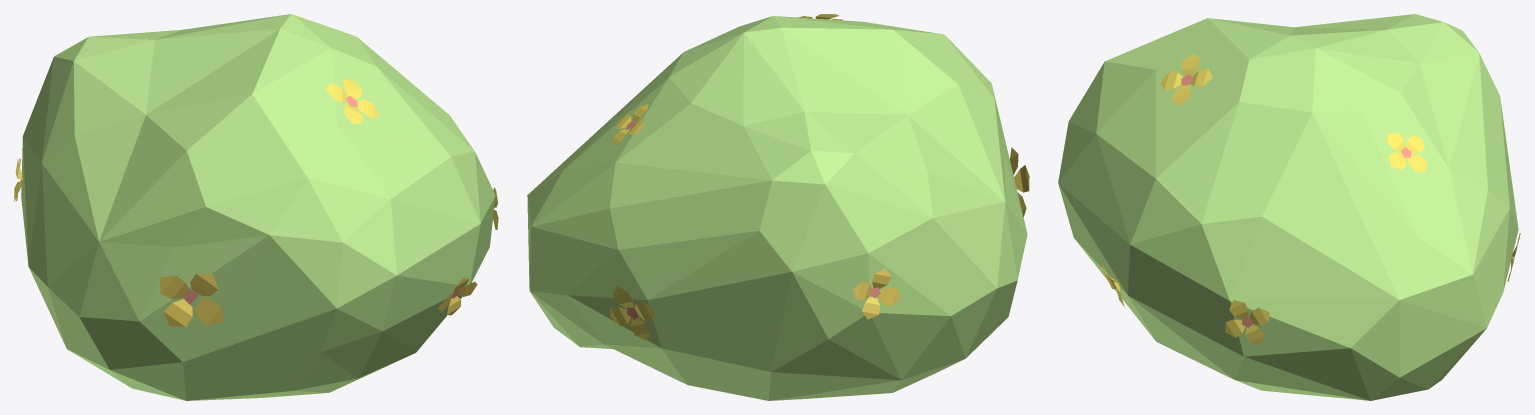
Rendered from FlowerBush_a_l_04.fbx.
3 views of the same model, side by side, from view 1: azimuth 30°, elevation 25°; view 2: azimuth 150°, elevation 25°; view 3: azimuth 270°, elevation 25° (orthographic). The views are drawn at different scales.
Parts seen in each view (by area): view 1: FlowerBush_a_l_04; view 2: FlowerBush_a_l_04; view 3: FlowerBush_a_l_04.
Part boxes in pixels (x1,y1,x2,y2): FlowerBush_a_l_04: (14, 14, 498, 400); FlowerBush_a_l_04: (527, 14, 1029, 400); FlowerBush_a_l_04: (1058, 14, 1520, 400).
Bounding box in the file's own units: 343 × 256 × 327.
